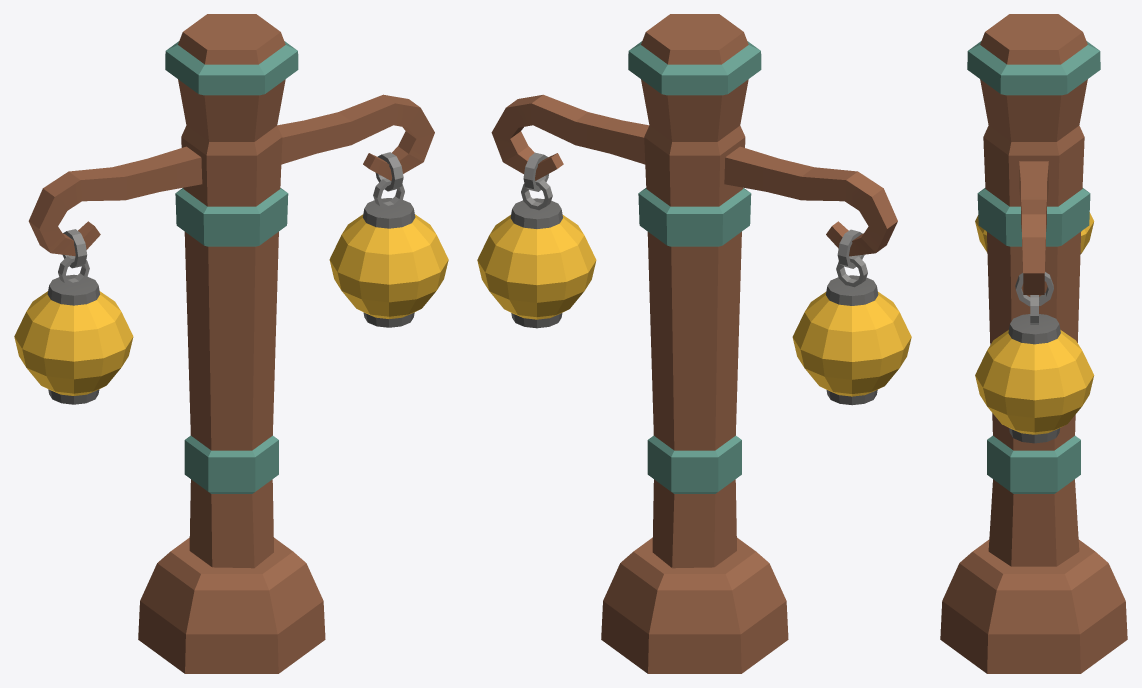
The model's file is diorama_2.fbx.
3 renders of one model, left to right at view 1: azimuth 30°, elevation 25°; view 2: azimuth 150°, elevation 25°; view 3: azimuth 270°, elevation 25°, orthographic.
Parts seen in each view (by area): view 1: diorama_2; view 2: diorama_2; view 3: diorama_2.
Boxes of the visible parts, box(x1,y1,x2,y2) form: diorama_2: box(14, 14, 448, 673); diorama_2: box(477, 14, 911, 673); diorama_2: box(940, 14, 1127, 673).
Size of the model in its own units: 280 by 388 by 109.
